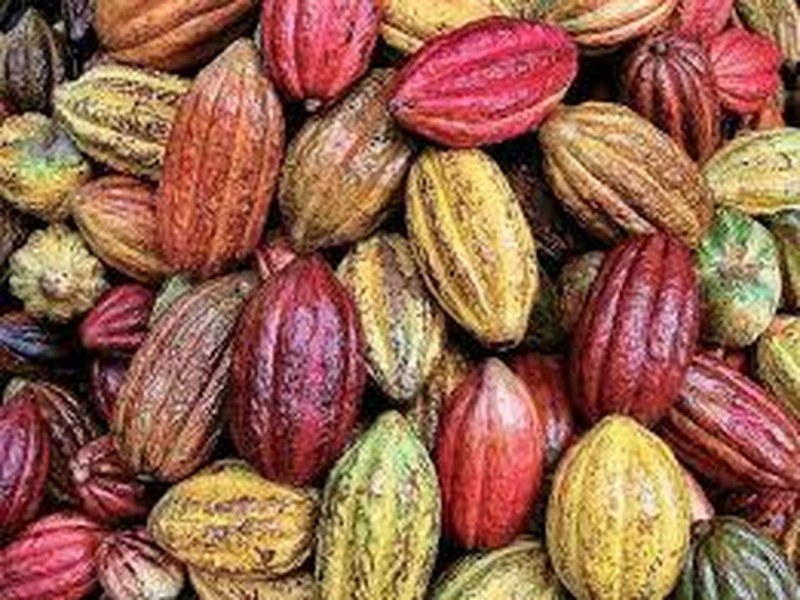Cacaopod: (155, 39, 279, 271), (402, 148, 537, 347)
